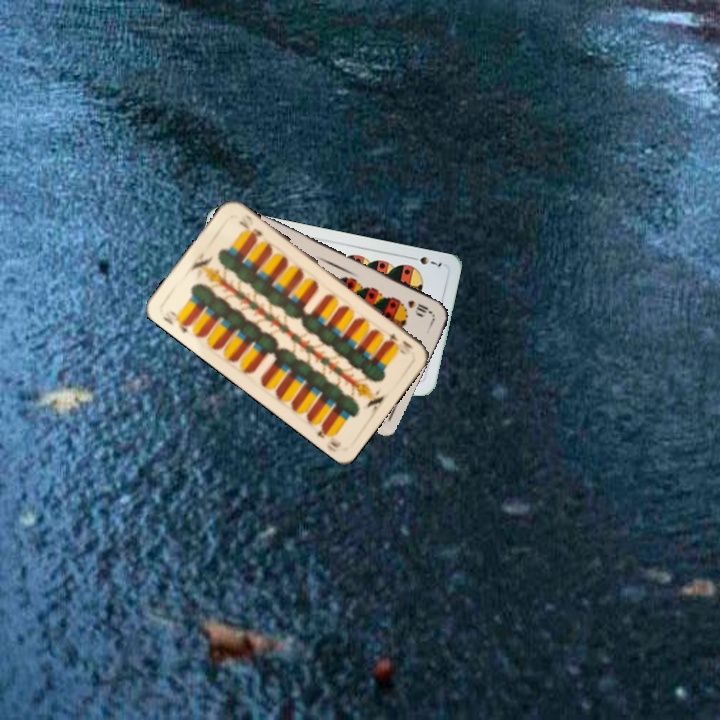E10: (158, 306, 193, 336), (380, 328, 416, 351)
S10: (403, 296, 435, 317)
S7: (406, 252, 444, 271)
